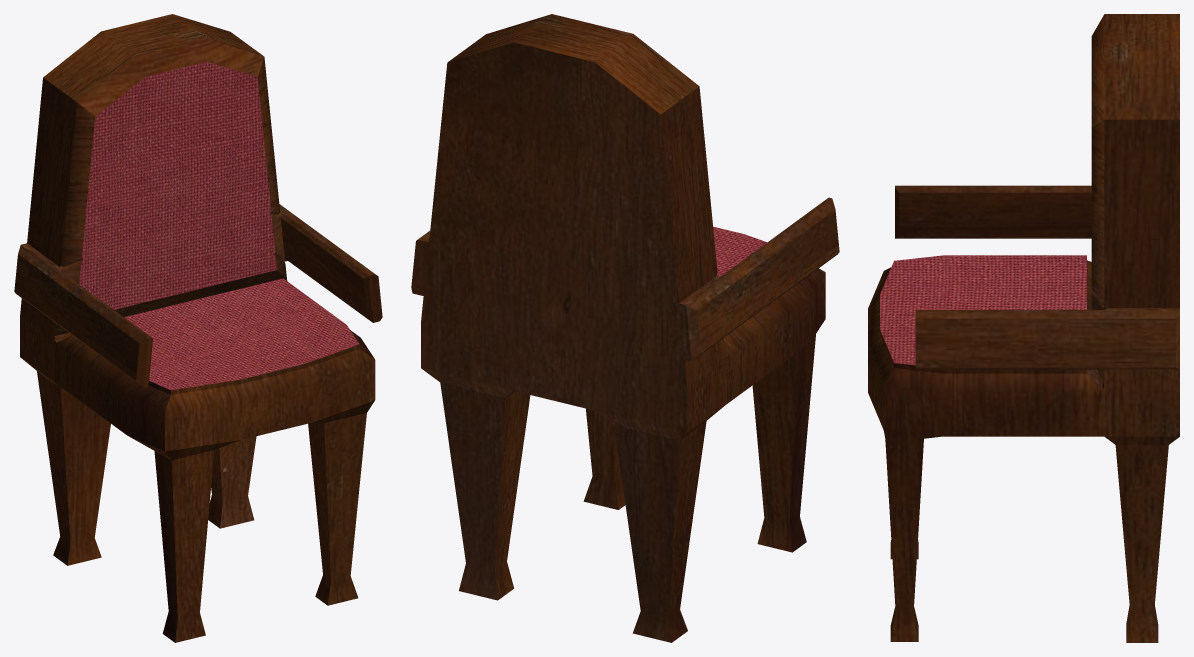
The model's file is Chair_Red(Arms).fbx.
3 views of the same model, side by side, from view 1: azimuth 30°, elevation 25°; view 2: azimuth 150°, elevation 25°; view 3: azimuth 270°, elevation 25° (orthographic). The views are drawn at different scales.
Visible parts, largest first — view 1: chair2_arms_red; view 2: chair2_arms_red; view 3: chair2_arms_red.
Boxes of the visible parts, x1,y1,x2,y2 form: chair2_arms_red: (14,14,382,642); chair2_arms_red: (411,14,839,642); chair2_arms_red: (868,14,1179,642).
Size of the model in its own units: 0.7518 by 1.43 by 0.7228.
2 materials, 2 textured.
